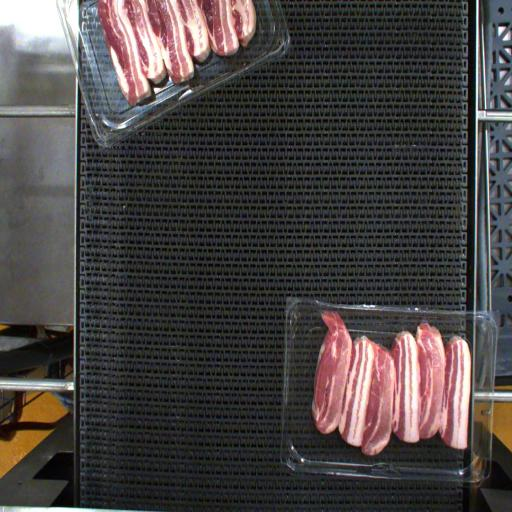packaging-error: (317, 294, 344, 322)
